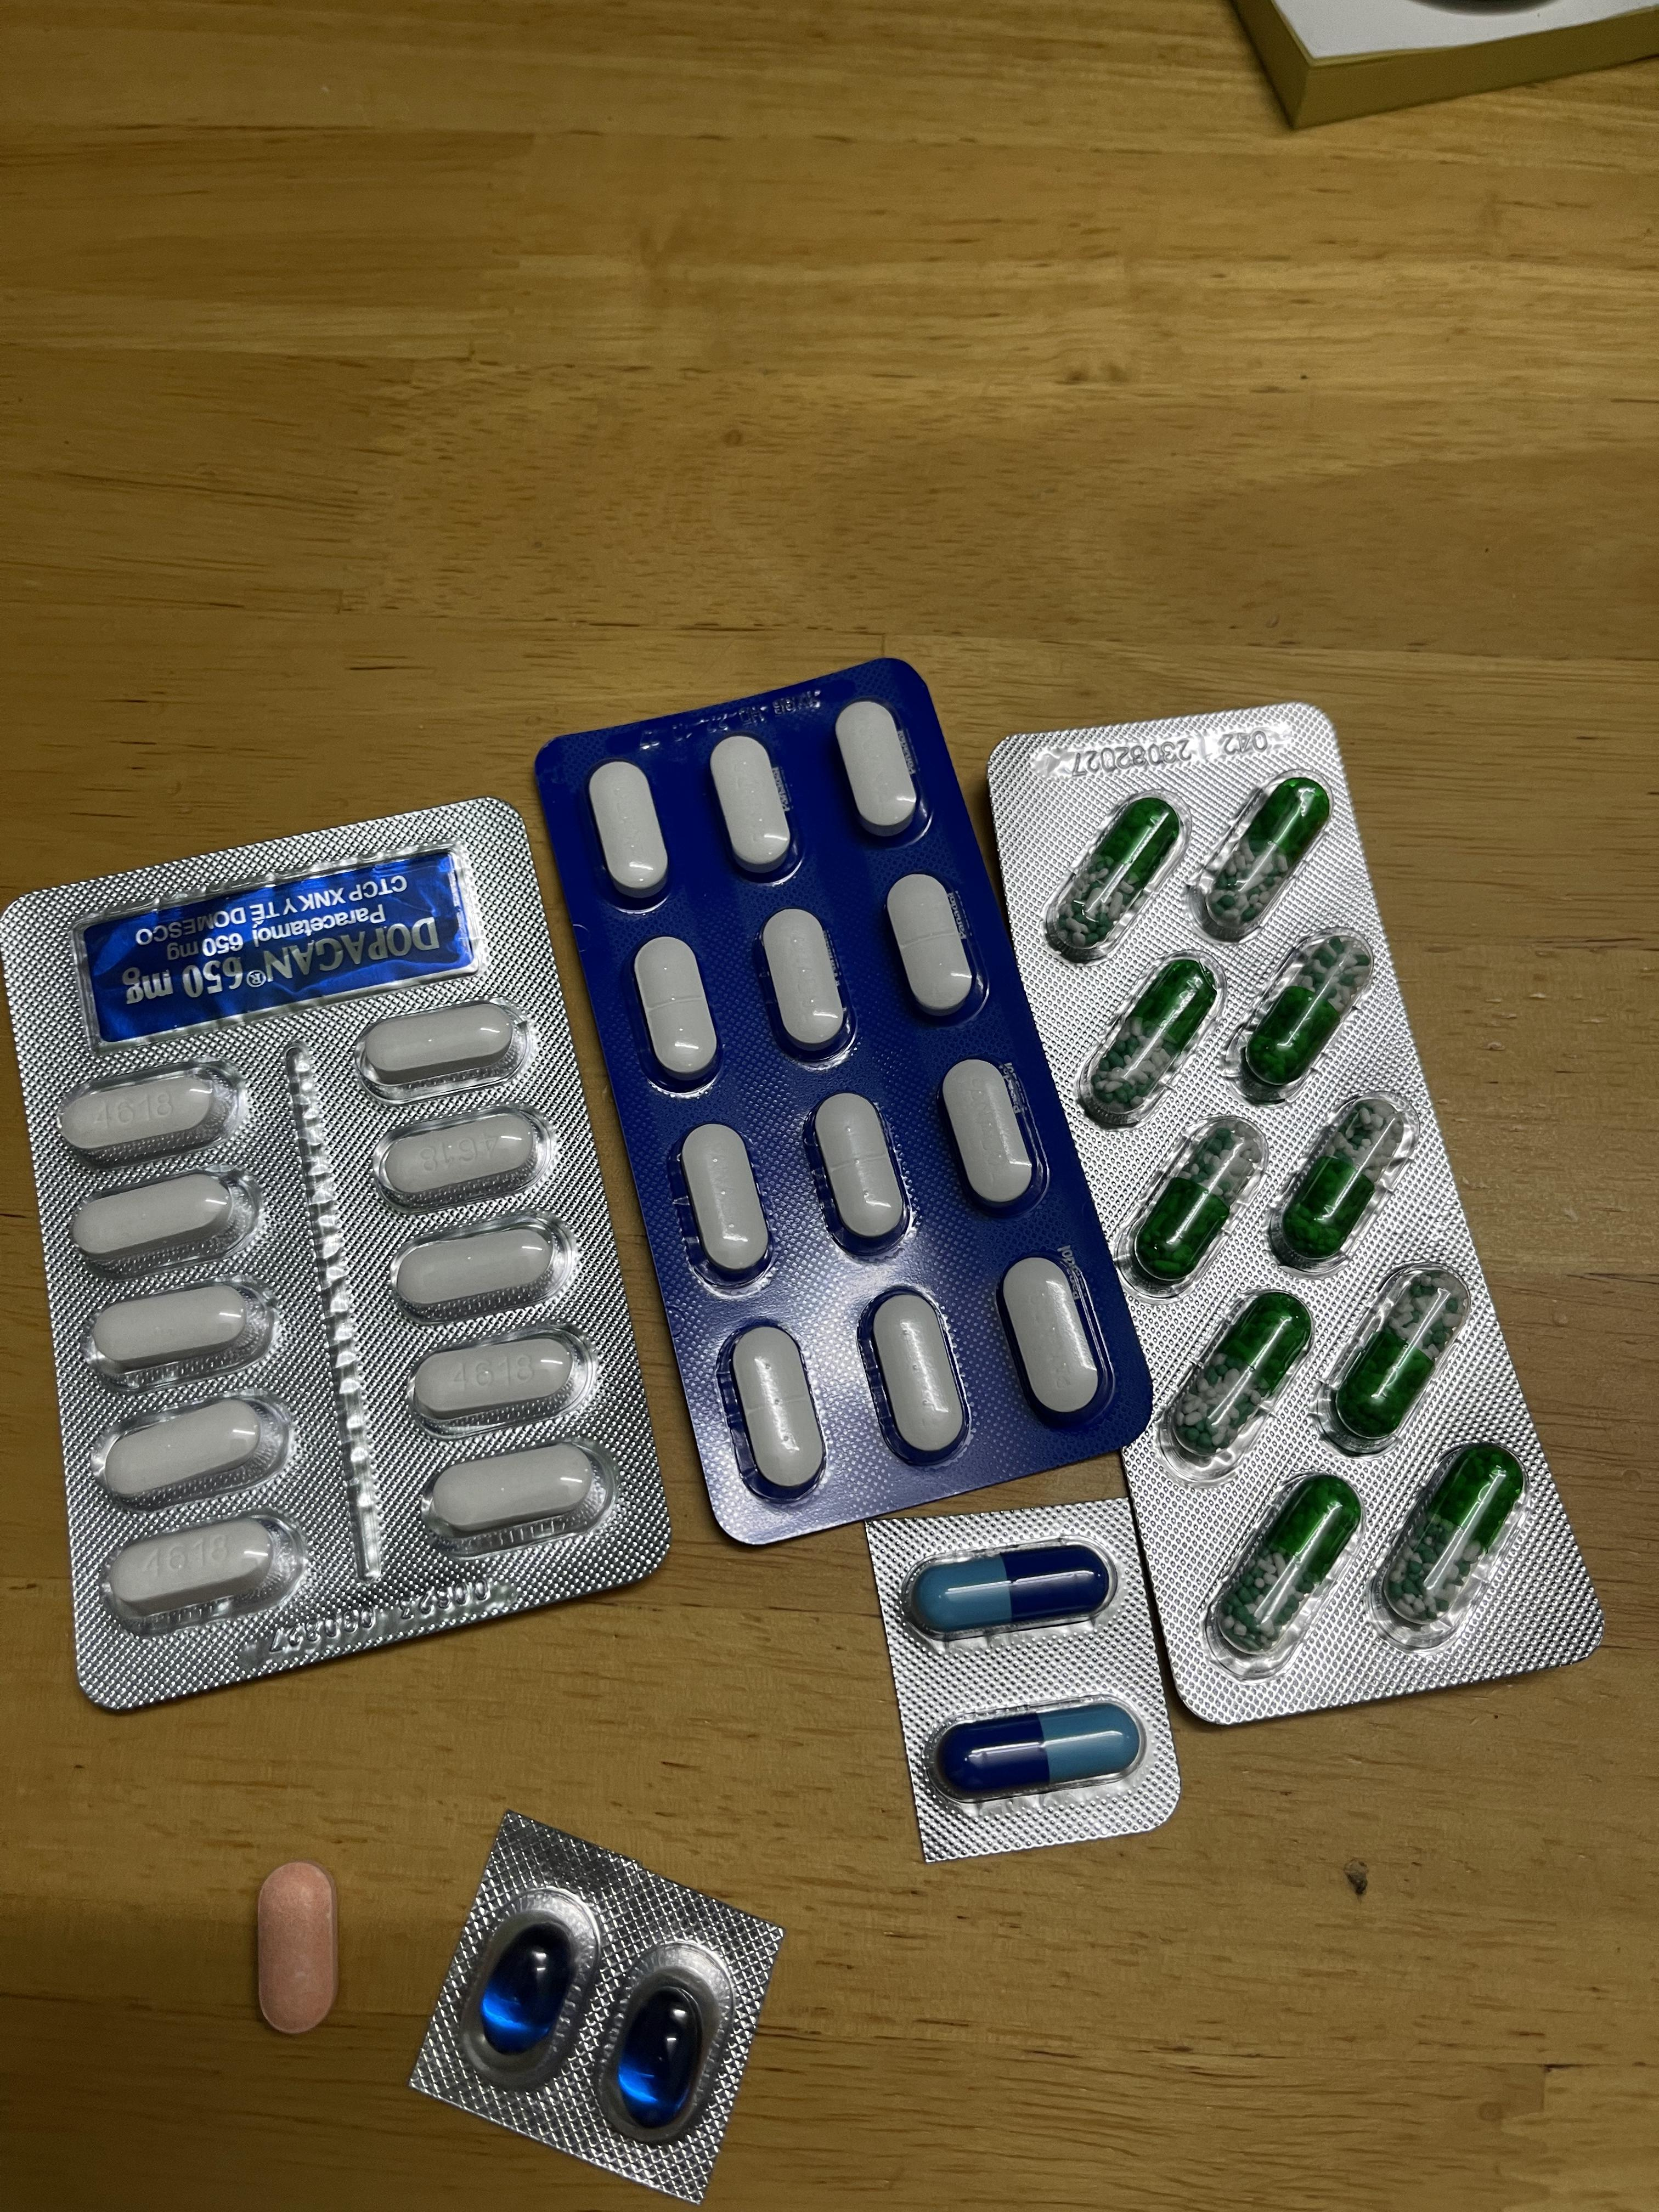Lincomyxin_500mg: (617, 1986, 704, 2118), (483, 1928, 570, 2047)
Loratadine_10mg: (254, 1864, 338, 2034)
Paracetamol_350mg: (1000, 1254, 1103, 1418), (868, 1289, 965, 1456), (728, 1324, 824, 1493), (939, 1057, 1040, 1214), (810, 1090, 910, 1249), (678, 1122, 770, 1277), (887, 871, 978, 1021), (760, 907, 849, 1055), (634, 935, 720, 1083), (708, 733, 795, 876), (833, 698, 920, 838), (587, 759, 669, 899)
Paracetamol_500mg: (91, 1392, 291, 1503), (101, 1514, 298, 1620), (80, 1277, 274, 1379), (420, 1440, 610, 1540), (403, 1325, 589, 1426), (66, 1169, 258, 1264), (390, 1216, 573, 1315), (369, 1108, 552, 1204), (54, 1066, 242, 1157), (350, 996, 528, 1090)
Paracetamol_650mg: (1234, 925, 1375, 1097), (1385, 1449, 1520, 1629), (1127, 1113, 1263, 1285), (1080, 953, 1222, 1118), (1223, 1479, 1356, 1651), (1173, 1292, 1309, 1458), (1276, 1096, 1410, 1263), (1333, 1271, 1466, 1437), (1197, 773, 1330, 937), (1049, 796, 1182, 954)
pill: (941, 1705, 1140, 1796), (918, 1547, 1110, 1634)
